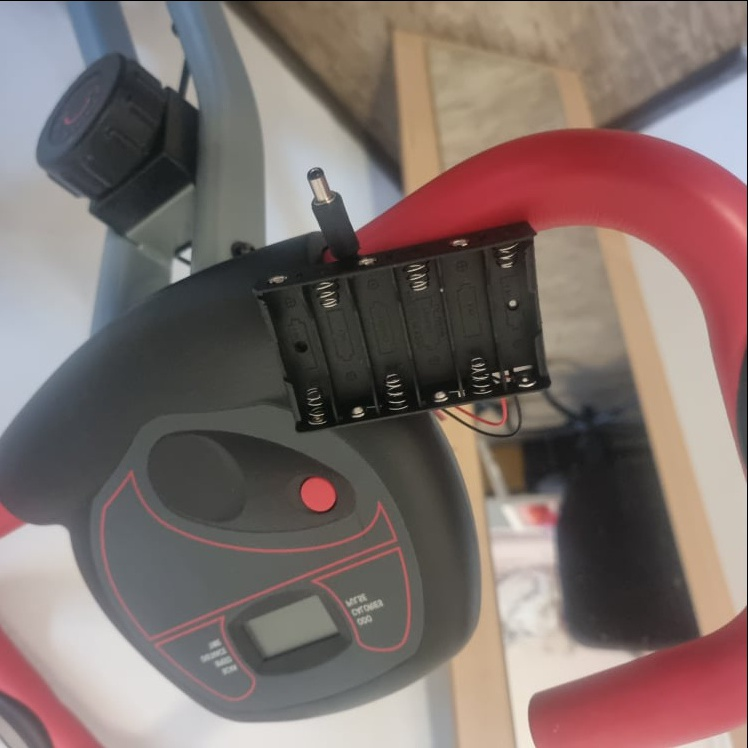BATTERY BOX: (254, 219, 553, 433)
